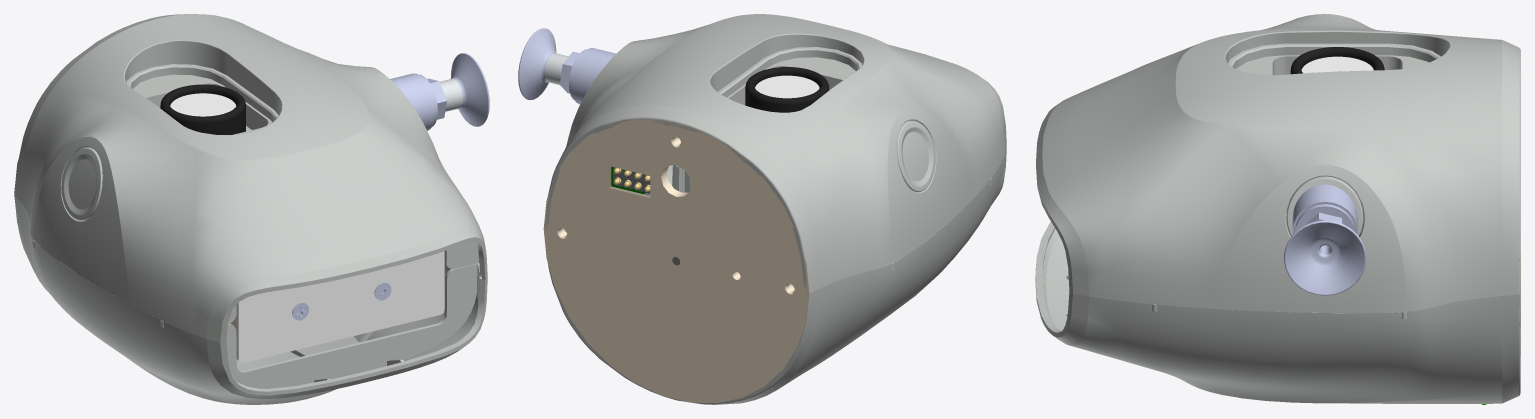
File: gripperLeft.dae
3 renders of one model, left to right at view 1: azimuth 30°, elevation 25°; view 2: azimuth 150°, elevation 25°; view 3: azimuth 270°, elevation 25°, orthographic. The views are drawn at different scales.
Parts seen in each view (by area): view 1: Node_0x22f4ac0, Node_0x22f4f60, Node_0x22f58a0, Node_0x22f7460, Node_0x22f33a0, Node_0x22f7900, Node_0x22f2f00; view 2: Node_0x22f4ac0, Node_0x22f6680, Node_0x22f4f60, Node_0x22f7460, Node_0x22f33a0, Node_0x22f58a0, Node_0x22f7900, Node_0x22f4180; view 3: Node_0x22f4ac0, Node_0x22f4f60, Node_0x22f7460, Node_0x22f33a0, Node_0x22f58a0.
Boxes of the visible parts, x1,y1,x2,y2 form: Node_0x22f4ac0: [14, 14, 487, 343]; Node_0x22f4f60: [14, 74, 487, 404]; Node_0x22f58a0: [170, 93, 444, 362]; Node_0x22f7460: [390, 53, 489, 130]; Node_0x22f33a0: [160, 84, 245, 134]; Node_0x22f7900: [440, 78, 462, 111]; Node_0x22f2f00: [292, 282, 391, 320]; Node_0x22f4ac0: [545, 14, 1006, 293]; Node_0x22f6680: [543, 119, 808, 403]; Node_0x22f4f60: [547, 57, 1006, 404]; Node_0x22f7460: [518, 28, 615, 104]; Node_0x22f33a0: [745, 67, 828, 112]; Node_0x22f58a0: [755, 75, 819, 98]; Node_0x22f7900: [544, 53, 568, 84]; Node_0x22f4180: [613, 167, 650, 193]; Node_0x22f4ac0: [1036, 14, 1520, 313]; Node_0x22f4f60: [1035, 55, 1520, 403]; Node_0x22f7460: [1284, 184, 1366, 295]; Node_0x22f33a0: [1290, 47, 1384, 74]; Node_0x22f58a0: [1301, 56, 1373, 73].
Bounding box in the file's own units: 0.098 × 0.069 × 0.0931.
